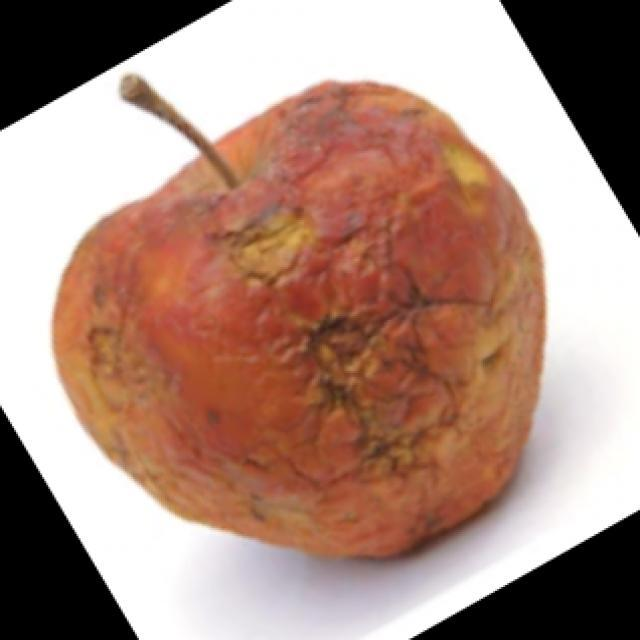Rotten: (45, 64, 542, 558)
